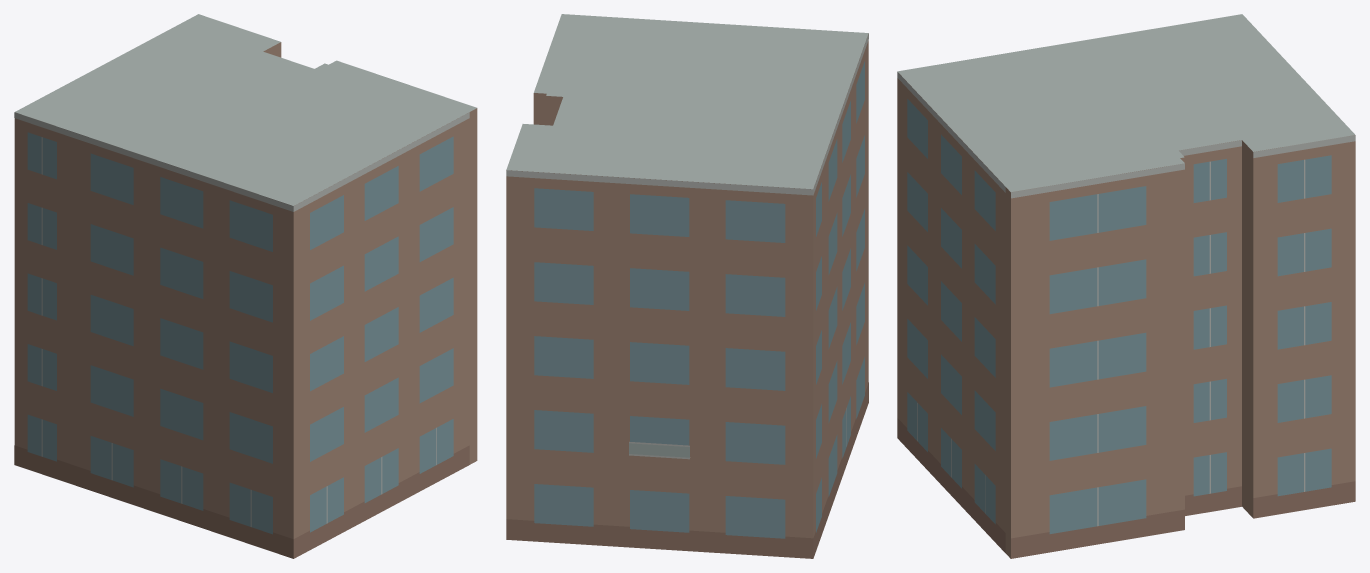
The model's file is survey-upis-32862775.glb.
3 renders of one model, left to right at view 1: azimuth 30°, elevation 25°; view 2: azimuth 150°, elevation 25°; view 3: azimuth 270°, elevation 25°, orthographic. The views are drawn at different scales.
Parts seen in each view (by area): view 1: survey-upis-32862775.tmp; view 2: survey-upis-32862775.tmp; view 3: survey-upis-32862775.tmp.
Boxes of the visible parts, x1,y1,x2,y2 form: survey-upis-32862775.tmp: (14,14,477,558); survey-upis-32862775.tmp: (506,14,868,558); survey-upis-32862775.tmp: (897,14,1355,558).
Size of the model in its own units: 15.03 by 14.4 by 16.33.
